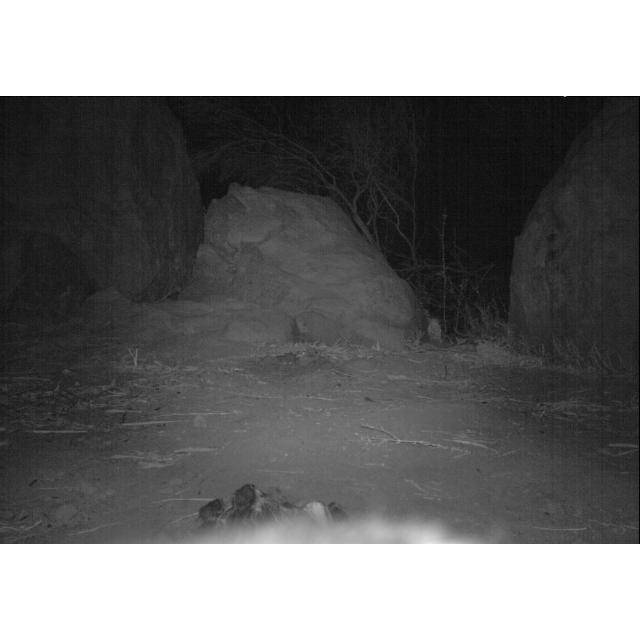animals: (196, 481, 272, 527)
